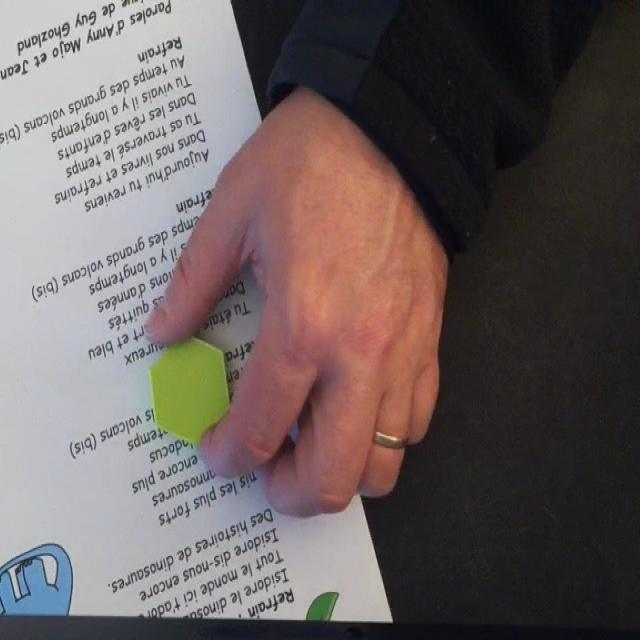hexagon: (148, 337, 228, 445)
